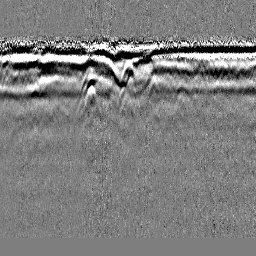cavity: (119, 60, 137, 91)
